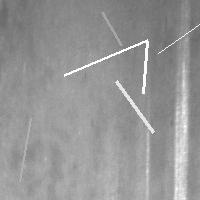scratches: (59, 35, 152, 80), (170, 52, 191, 199), (111, 76, 158, 137), (153, 0, 200, 58), (14, 113, 35, 186), (97, 7, 126, 50), (142, 113, 154, 198), (138, 36, 152, 98)
